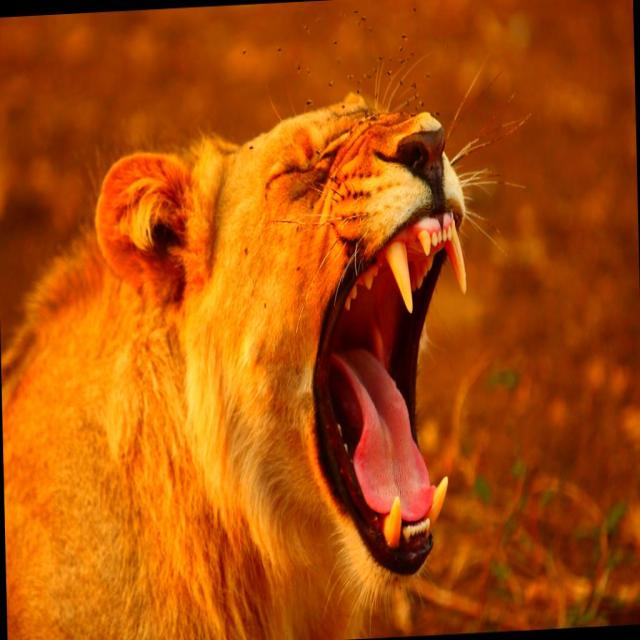Lion: (0, 47, 544, 639)
